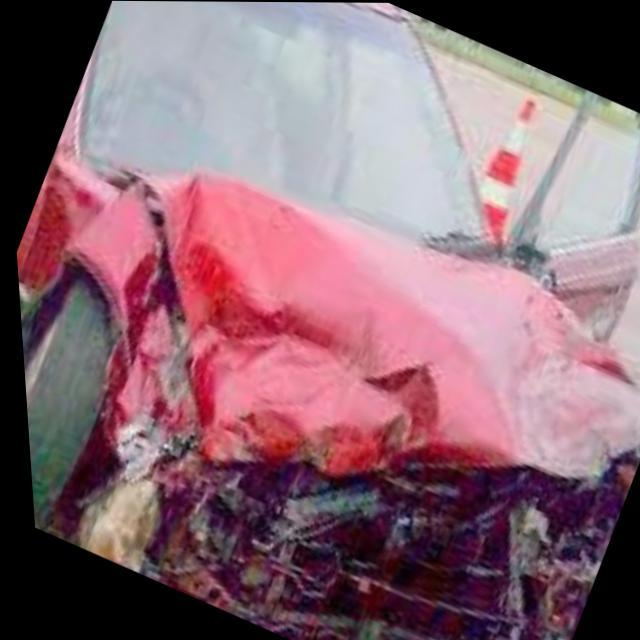no part: (17, 171, 640, 640)
